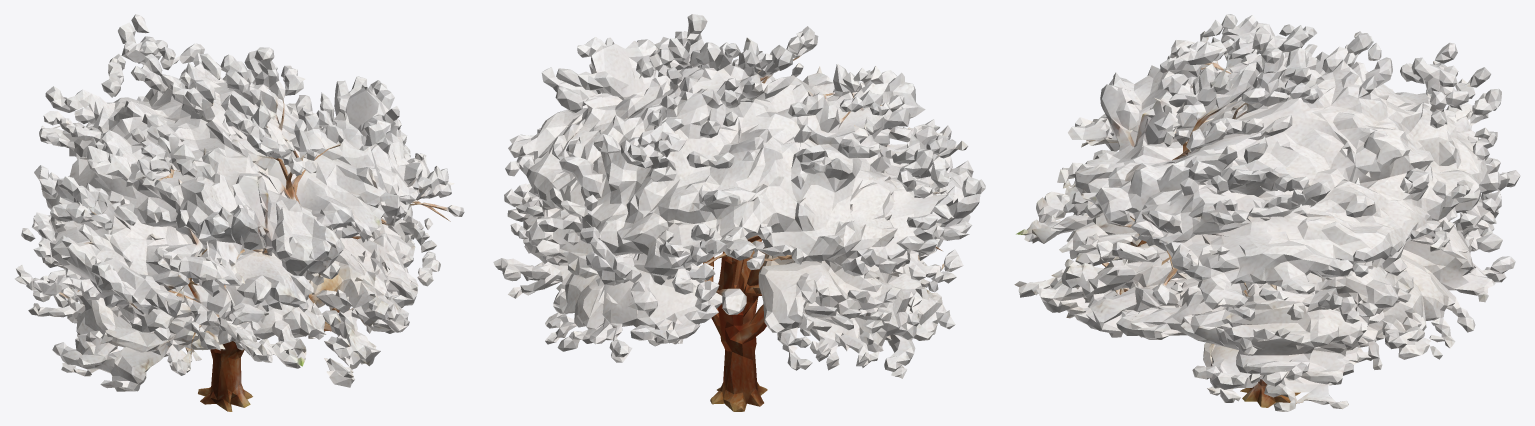
File: source.glb
3 views of the same model, side by side, from view 1: azimuth 30°, elevation 25°; view 2: azimuth 150°, elevation 25°; view 3: azimuth 270°, elevation 25° (orthographic). The views are drawn at different scales.
Parts seen in each view (by area): view 1: model; view 2: model; view 3: model.
Boxes of the visible parts, x1,y1,x2,y2 form: model: [15, 14, 464, 411]; model: [493, 14, 985, 411]; model: [1014, 14, 1520, 411].
Size of the model in its own units: 1.92 by 1.52 by 1.9.
Materials: 1 (1 with a texture image).
